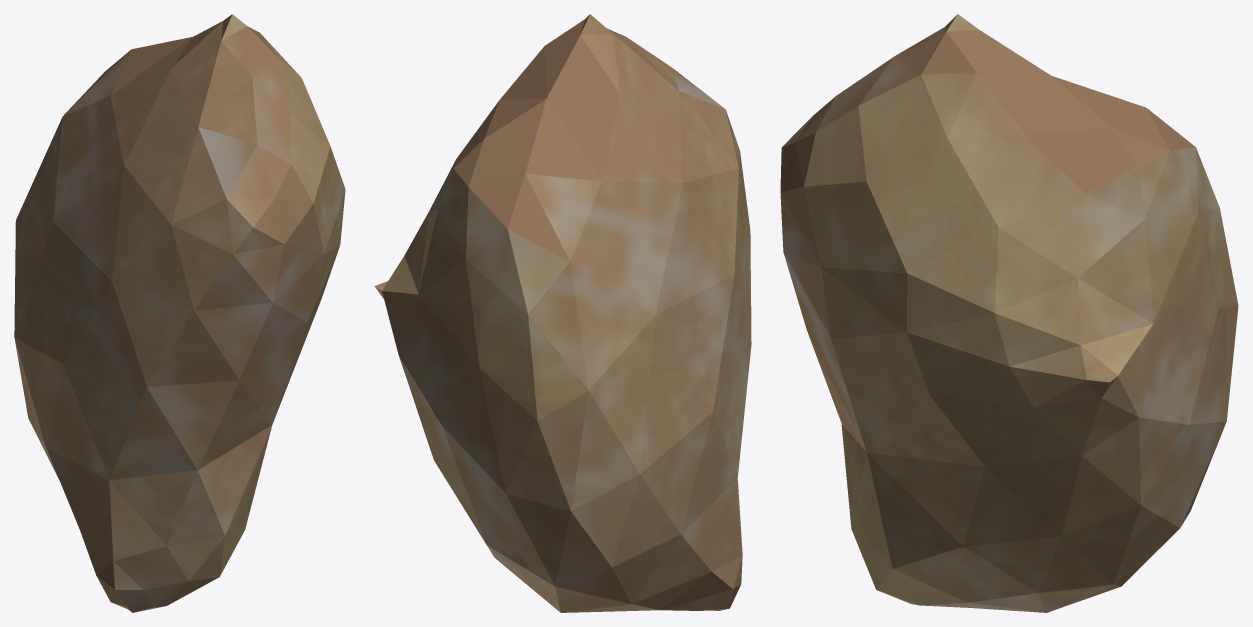
The model's file is PedraAlta2HP.fbx.
3 renders of one model, left to right at view 1: azimuth 30°, elevation 25°; view 2: azimuth 150°, elevation 25°; view 3: azimuth 270°, elevation 25°, orthographic. The views are drawn at different scales.
Visible parts, largest first — view 1: PedraAlta2; view 2: PedraAlta2; view 3: PedraAlta2.
Boxes of the visible parts, box(x1,y1,x2,y2) form: PedraAlta2: box(14, 14, 345, 612); PedraAlta2: box(374, 14, 751, 612); PedraAlta2: box(780, 14, 1238, 612).
Bounding box in the file's own units: 145 × 270 × 174.
